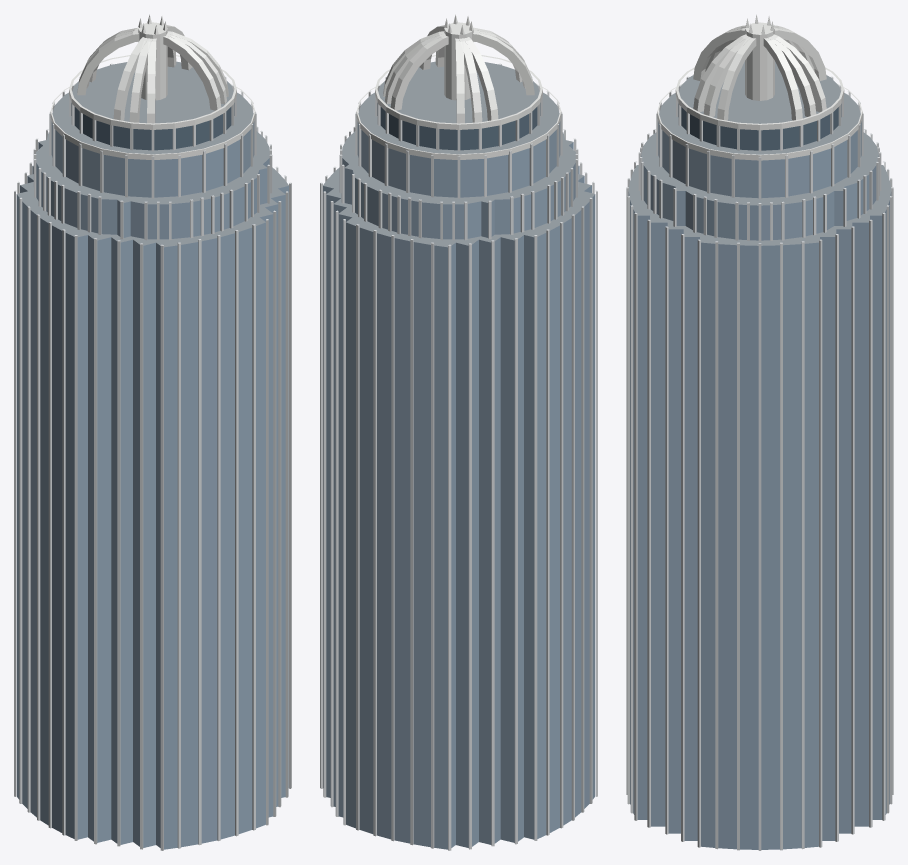
File: bos-111-huntington.glb
3 renders of one model, left to right at view 1: azimuth 30°, elevation 25°; view 2: azimuth 150°, elevation 25°; view 3: azimuth 270°, elevation 25°, orthographic.
Parts seen in each view (by area): view 1: 111 Huntington Avenue; view 2: 111 Huntington Avenue; view 3: 111 Huntington Avenue.
Part boxes in pixels (<box>): 111 Huntington Avenue: <box>14,14,291,850</box>; 111 Huntington Avenue: <box>320,14,597,850</box>; 111 Huntington Avenue: <box>626,15,893,850</box>.
Bounding box in the file's own units: 53.9 × 173 × 53.9.
